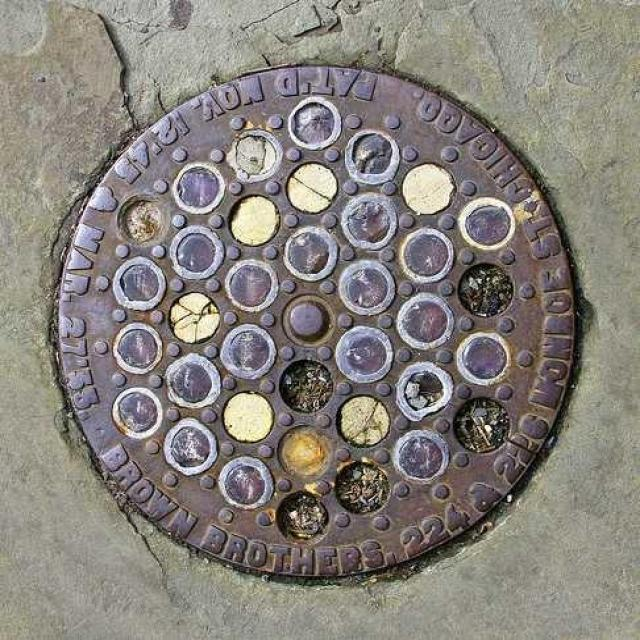manhole: (51, 65, 576, 579)
